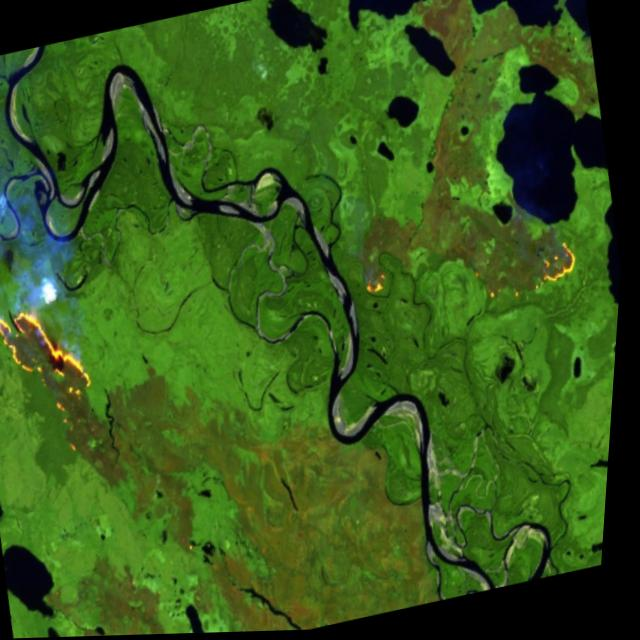fire: (0, 283, 120, 473), (467, 234, 592, 319), (357, 264, 399, 305)
